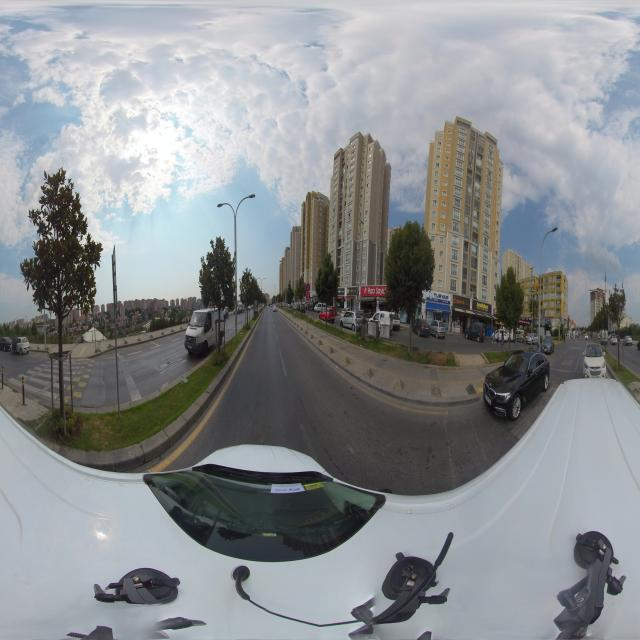SignStore: (426, 291, 451, 305), (360, 285, 387, 297), (472, 300, 492, 315), (452, 295, 470, 309), (347, 287, 357, 295), (338, 288, 345, 295)
